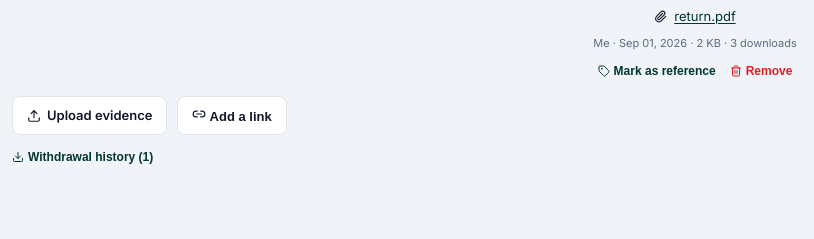
attachment panel › keeps withdrawn files behind a disclosure
Expected: the text "old.pdf" is not shown
Click the button "Withdrawal history (1)": (83, 157) 12,150 -> 153,164
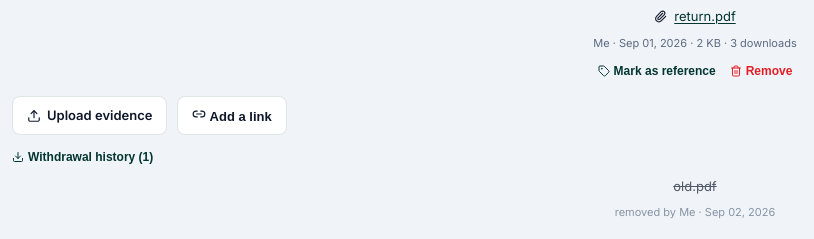
Now the text "old.pdf" is shown, box 673,176 -> 717,196
Now the text "removed by Me · Sep 02, 2026" is shown, box 615,204 -> 775,222
